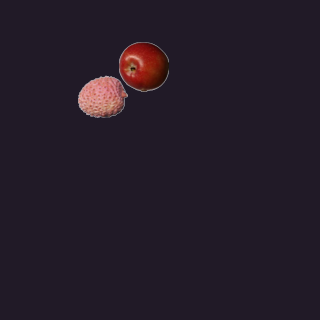Apple Braeburn: (118, 41, 168, 91)
Lychee: (77, 71, 127, 121)
